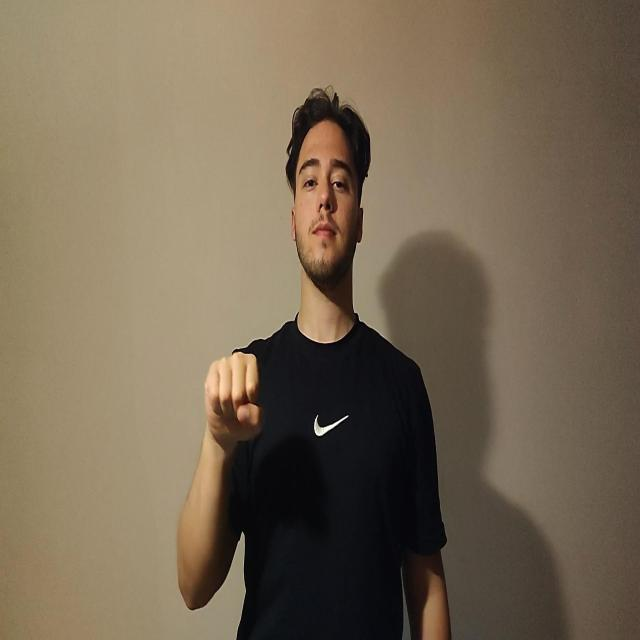yes: (204, 350, 264, 456)
